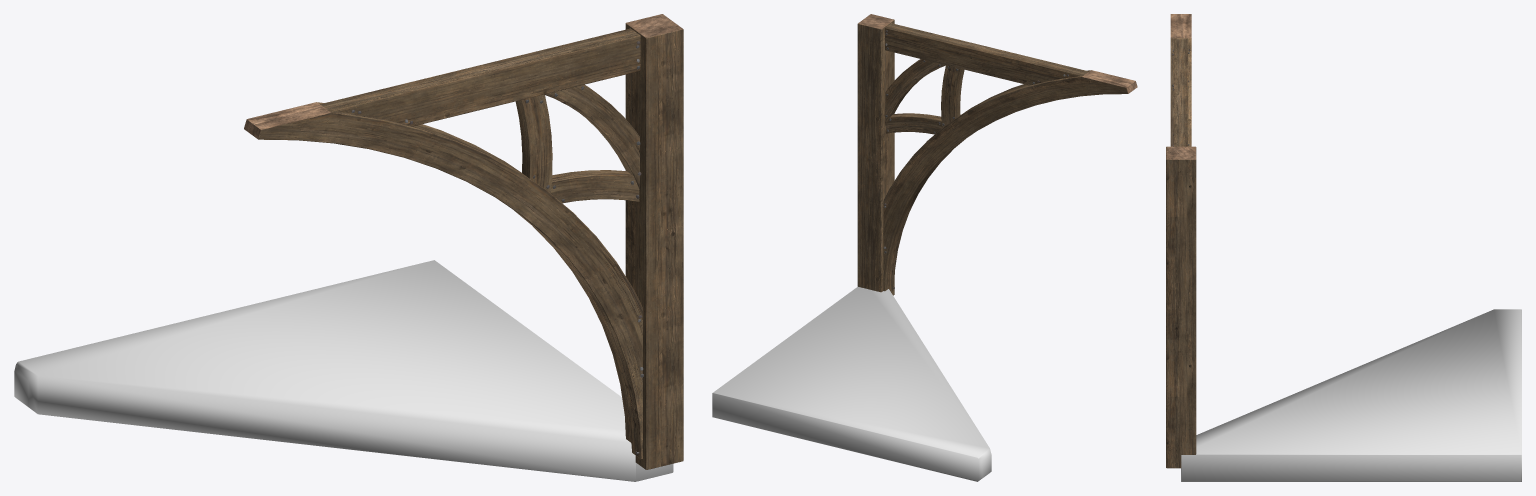
Rendered from SM_Arch_Beams_A.fbx.
The picture shows the model from 3 angles, left to right: view 1: azimuth 30°, elevation 25°; view 2: azimuth 150°, elevation 25°; view 3: azimuth 270°, elevation 25°; orthographic projection. The views are drawn at different scales.
Parts seen in each view (by area): view 1: SM_Arch_Beams_A_ConvexHulls, SM_Arch_Beams_A; view 2: SM_Arch_Beams_A_ConvexHulls, SM_Arch_Beams_A; view 3: SM_Arch_Beams_A_ConvexHulls, SM_Arch_Beams_A.
Boxes of the visible parts, x1,y1,x2,y2 form: SM_Arch_Beams_A_ConvexHulls: (14, 260, 673, 481); SM_Arch_Beams_A: (244, 14, 683, 469); SM_Arch_Beams_A_ConvexHulls: (712, 287, 991, 481); SM_Arch_Beams_A: (857, 14, 1137, 295); SM_Arch_Beams_A_ConvexHulls: (1181, 309, 1521, 481); SM_Arch_Beams_A: (1166, 14, 1196, 468).
Size of the model in its own units: 4.67 by 4.77 by 4.77.
